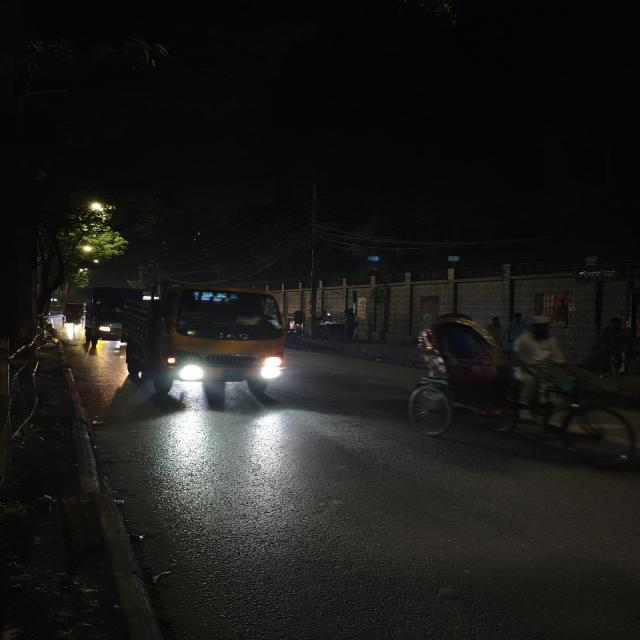pickup_van: (115, 286, 297, 406)
rickshaw: (398, 305, 639, 474), (62, 298, 88, 333)
truck: (84, 284, 134, 352)
